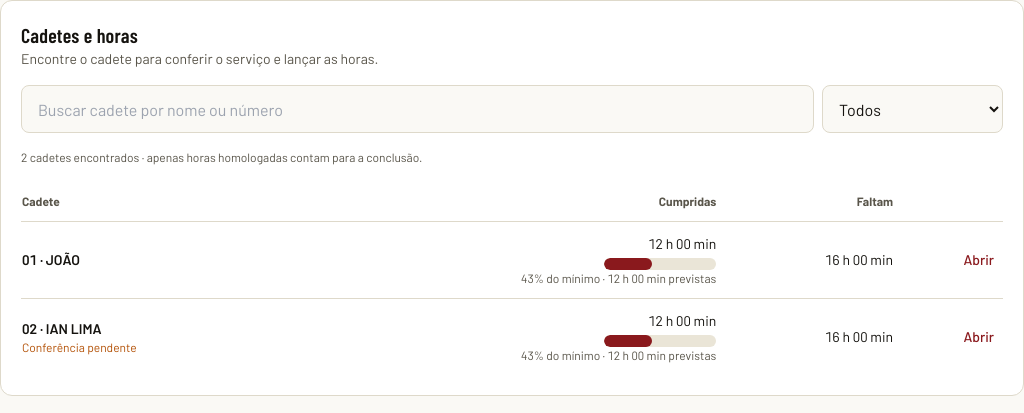
Test: busca simples dos cadetes › filtra pendências sem enviar formulário
Select "Com pendências" in the dropdown named "Situação da carga" at (912, 109), box [822,85,1003,133]
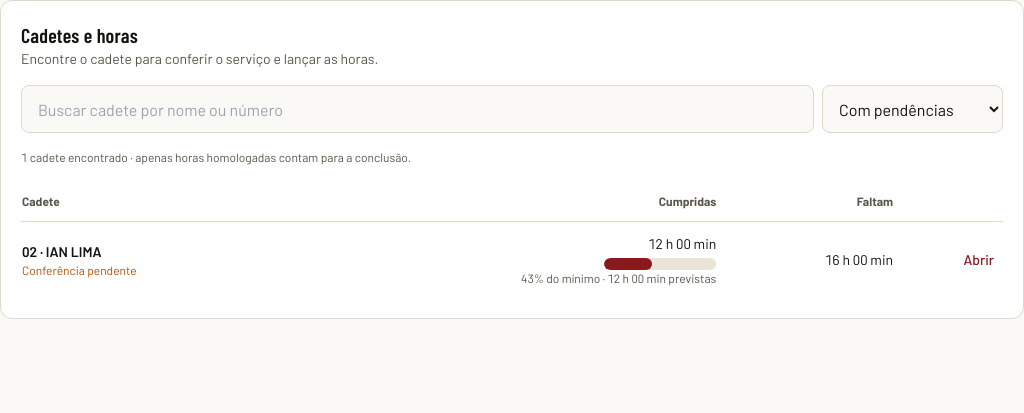
Check: the link "02 · IAN LIMA" is shown, box [22,243,102,260]
Check: the link "01 · JOÃO" is gone
